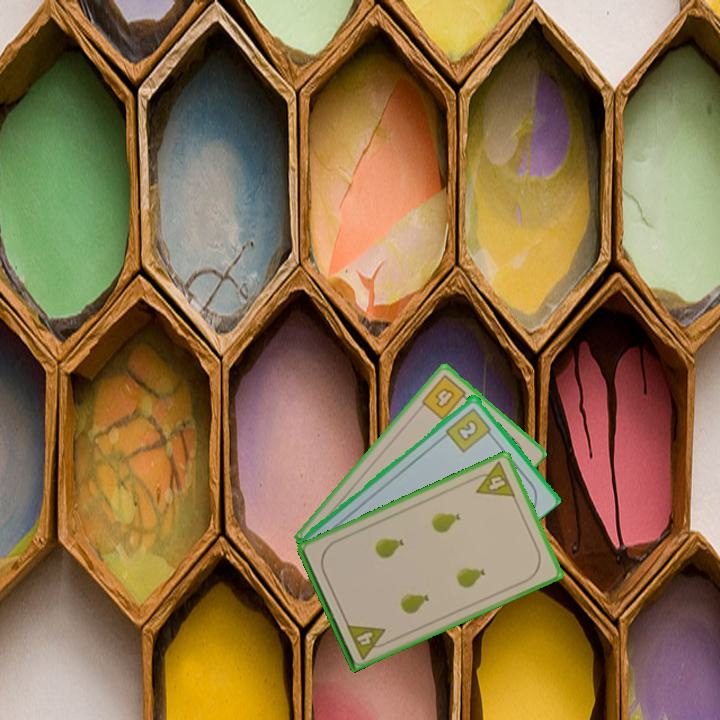2b: (442, 404, 496, 455)
4b: (418, 371, 473, 423)
4p: (467, 458, 518, 500), (343, 620, 393, 662)
